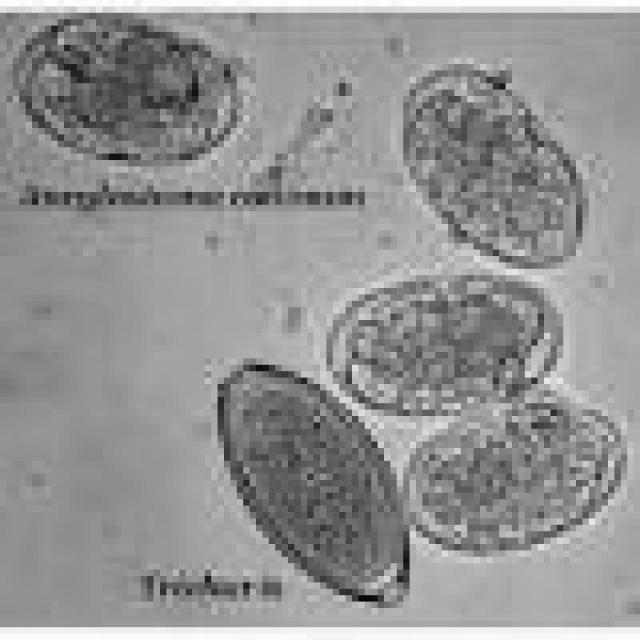Ancylostoma Spp: (384, 58, 595, 282), (394, 391, 630, 564), (320, 269, 595, 416), (3, 16, 253, 170)
Trichuris Trichiura: (208, 336, 419, 611)
